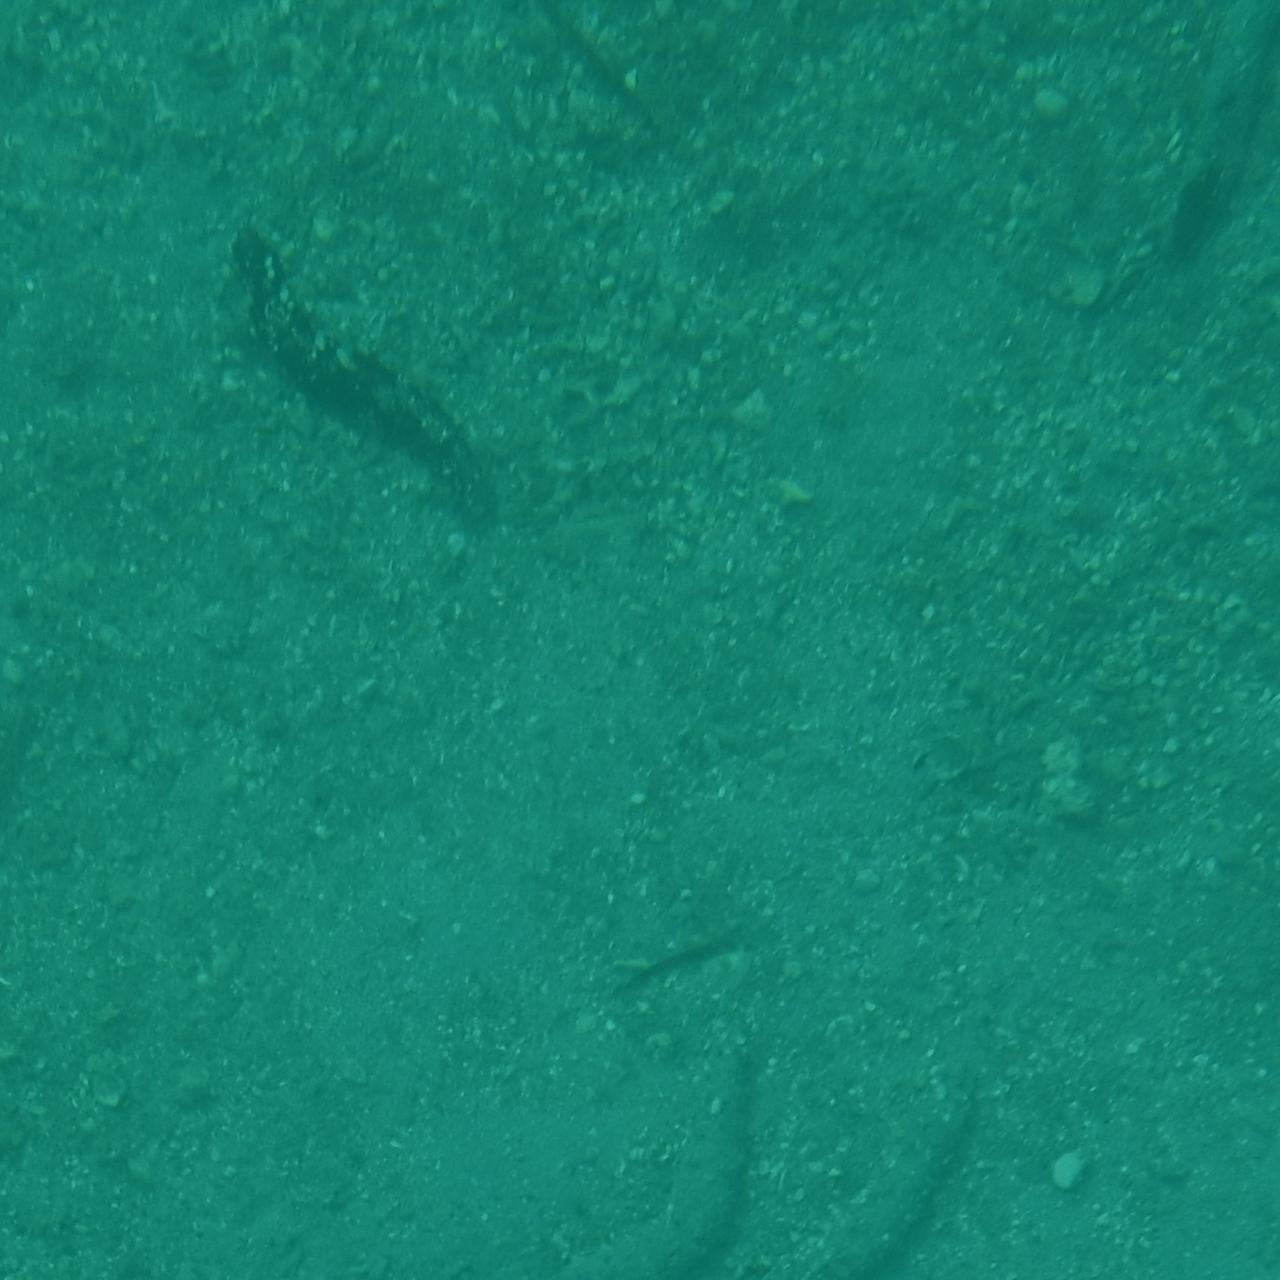Holothuria tubulosa: (205, 206, 565, 551), (1083, 0, 1280, 329), (728, 1071, 1006, 1280), (1108, 771, 1280, 1101), (556, 1049, 763, 1280), (1194, 714, 1280, 1107), (0, 138, 175, 286), (0, 0, 203, 79), (0, 0, 203, 77), (0, 1092, 82, 1280), (1219, 0, 1280, 219)
